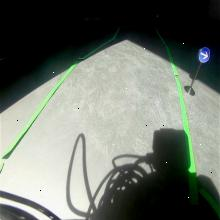right: (198, 45, 210, 64)
